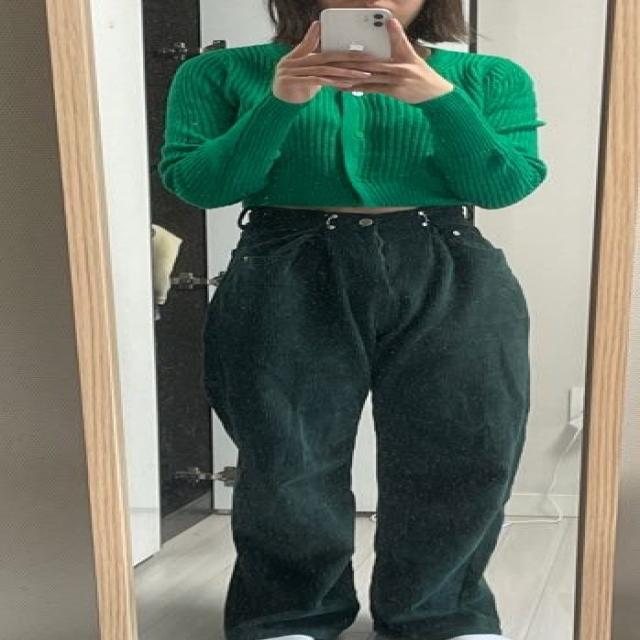cardigan: (161, 38, 544, 212)
denimpants: (202, 202, 538, 640)
